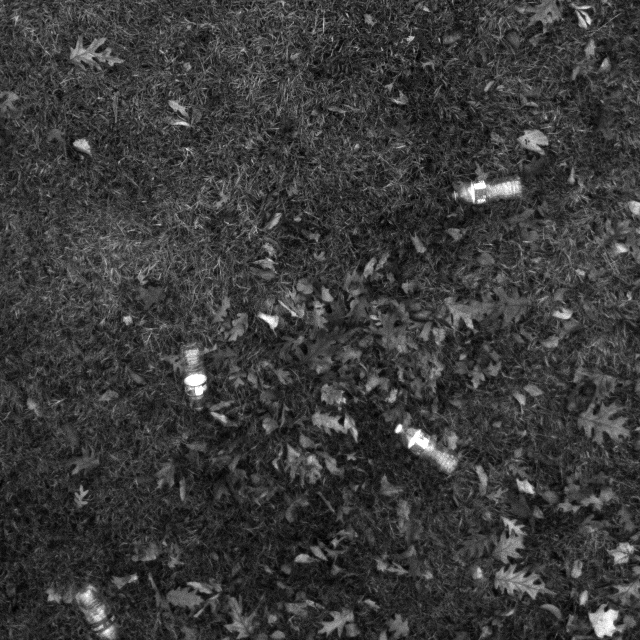bottle: (391, 423, 461, 485), (180, 338, 218, 419), (73, 581, 122, 639), (446, 176, 528, 207)
